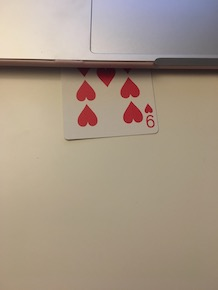NineOfHearts: (48, 58, 165, 139)
